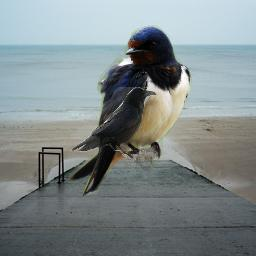Crow: (71, 87, 157, 158)
Swallow: (68, 25, 192, 200)
